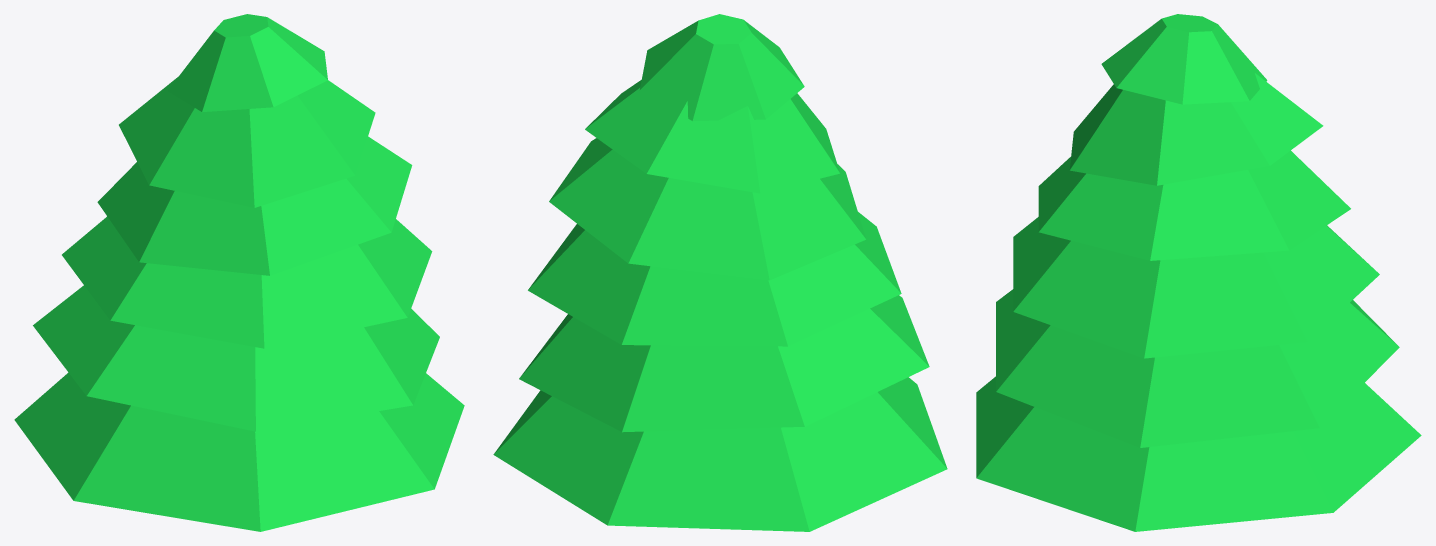
File: HRBITOVASSET.fbx
3 renders of one model, left to right at view 1: azimuth 30°, elevation 25°; view 2: azimuth 150°, elevation 25°; view 3: azimuth 270°, elevation 25°, orthographic.
Visible parts, largest first — view 1: Cylinder.002; view 2: Cylinder.002; view 3: Cylinder.002.
Part boxes in pixels (left/top/right/bottom): Cylinder.002: left=14, top=14, right=464, bottom=531; Cylinder.002: left=493, top=14, right=947, bottom=531; Cylinder.002: left=976, top=14, right=1421, bottom=531.
Bounding box in the file's own units: 150 × 150 × 146.
